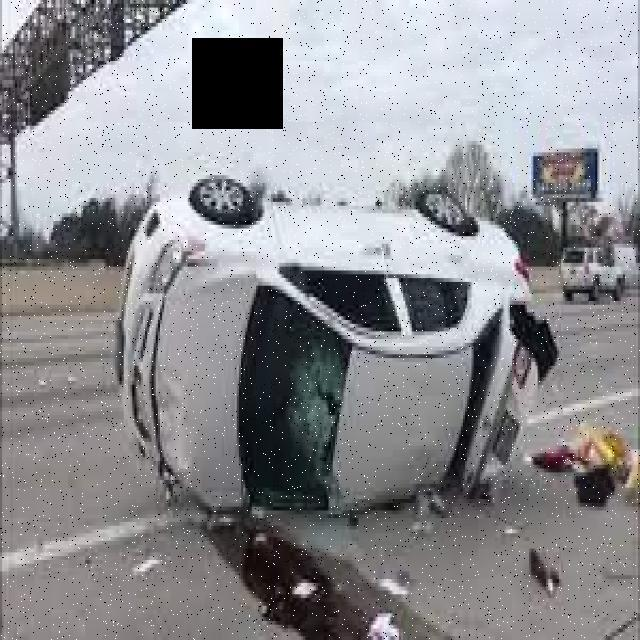severe: (106, 166, 540, 524)
